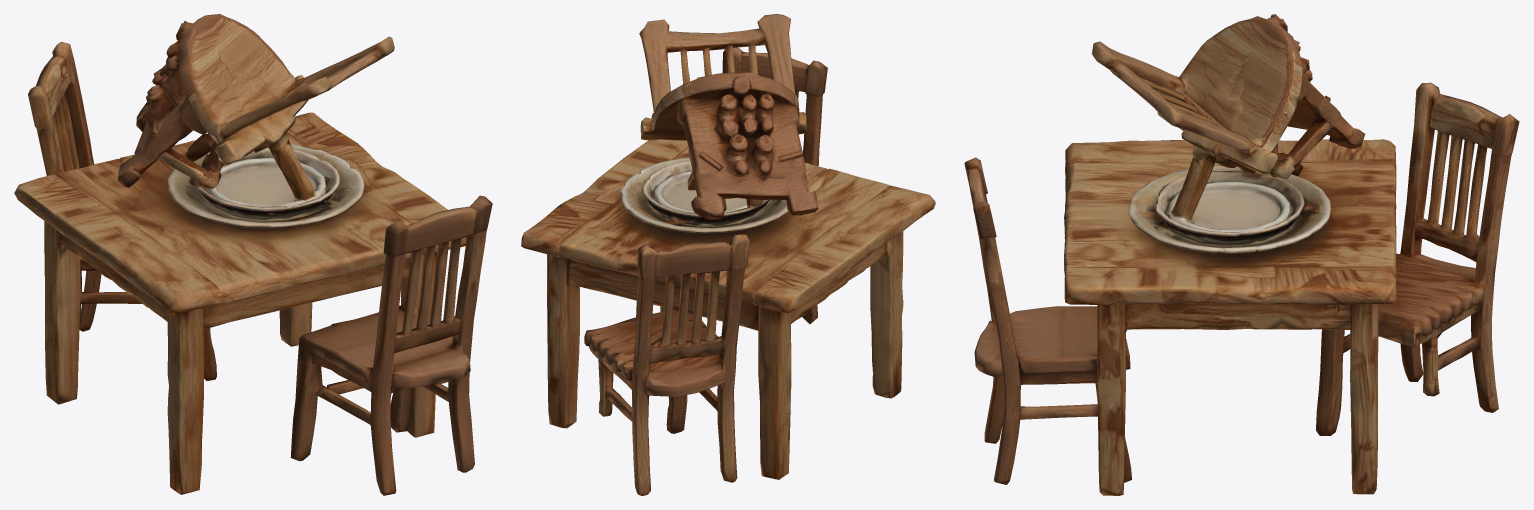
File: kitchen_table.glb
3 views of the same model, side by side, from view 1: azimuth 30°, elevation 25°; view 2: azimuth 150°, elevation 25°; view 3: azimuth 270°, elevation 25° (orthographic). The views are drawn at different scales.
Visible parts, largest first — view 1: tripo_node_70bcffe8-1fc2-4bfb-9fc1-bcde73e93278; view 2: tripo_node_70bcffe8-1fc2-4bfb-9fc1-bcde73e93278; view 3: tripo_node_70bcffe8-1fc2-4bfb-9fc1-bcde73e93278.
Part boxes in pixels (x1,y1,x2,y2): tripo_node_70bcffe8-1fc2-4bfb-9fc1-bcde73e93278: [14, 14, 492, 495]; tripo_node_70bcffe8-1fc2-4bfb-9fc1-bcde73e93278: [521, 14, 935, 495]; tripo_node_70bcffe8-1fc2-4bfb-9fc1-bcde73e93278: [964, 14, 1519, 495].
Bounding box in the file's own units: 0.8124 × 1 × 1.26.
1 material, 1 textured.
